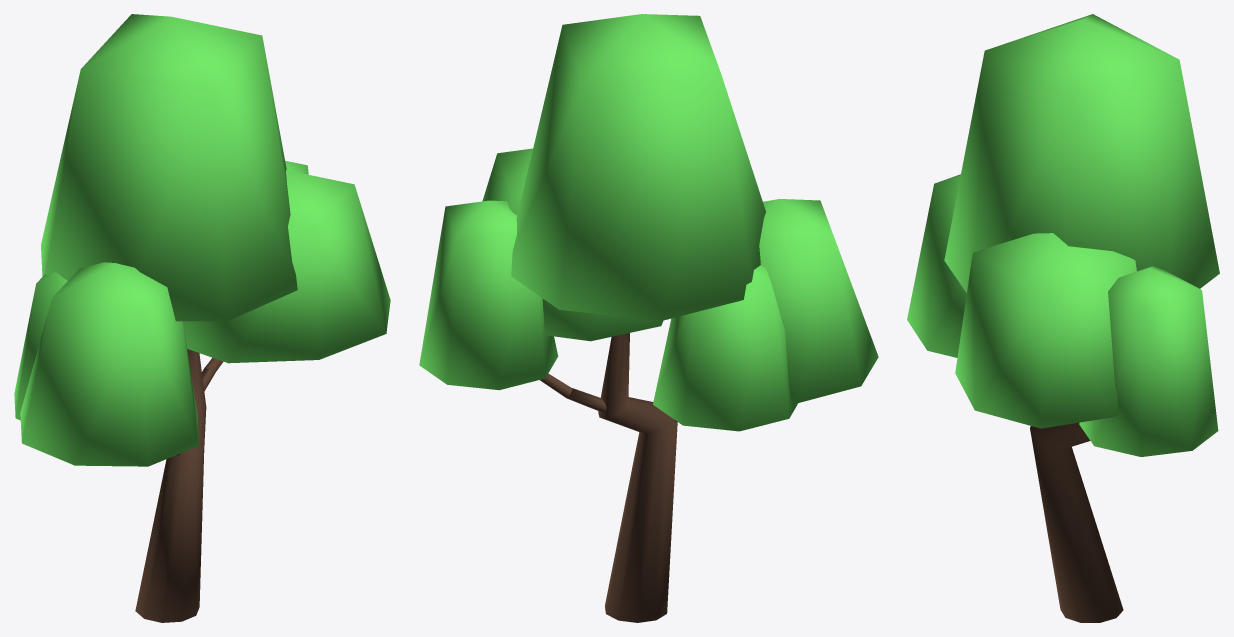
Rendered from SwampTree_Large1.fbx.
The picture shows the model from 3 angles, left to right: view 1: azimuth 30°, elevation 25°; view 2: azimuth 150°, elevation 25°; view 3: azimuth 270°, elevation 25°; orthographic projection.
Parts seen in each view (by area): view 1: SwampTree_Large1.001, SwampTree_Large1; view 2: SwampTree_Large1.001, SwampTree_Large1; view 3: SwampTree_Large1.001, SwampTree_Large1.
Boxes of the visible parts, x1,y1,x2,y2 form: SwampTree_Large1.001: (14,14,390,466); SwampTree_Large1: (135,349,223,622); SwampTree_Large1.001: (419,14,878,431); SwampTree_Large1: (540,333,677,622); SwampTree_Large1.001: (907,14,1219,456); SwampTree_Large1: (1030,422,1123,622).
Bounding box in the file's own units: 940 × 1399 × 672.
